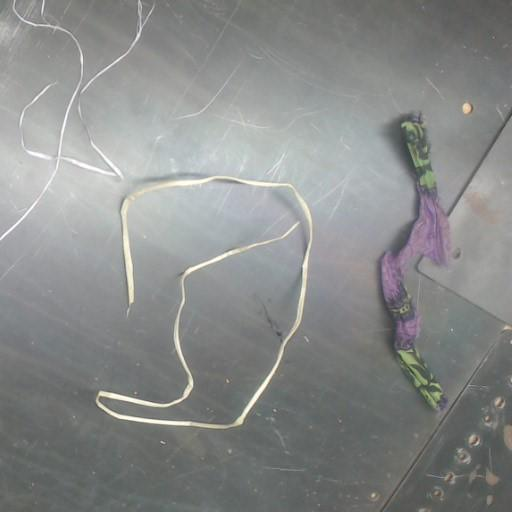cloth: (380, 113, 450, 409)
conveyor belt: (0, 0, 511, 511)
thread: (96, 175, 313, 429), (0, 0, 142, 242)
